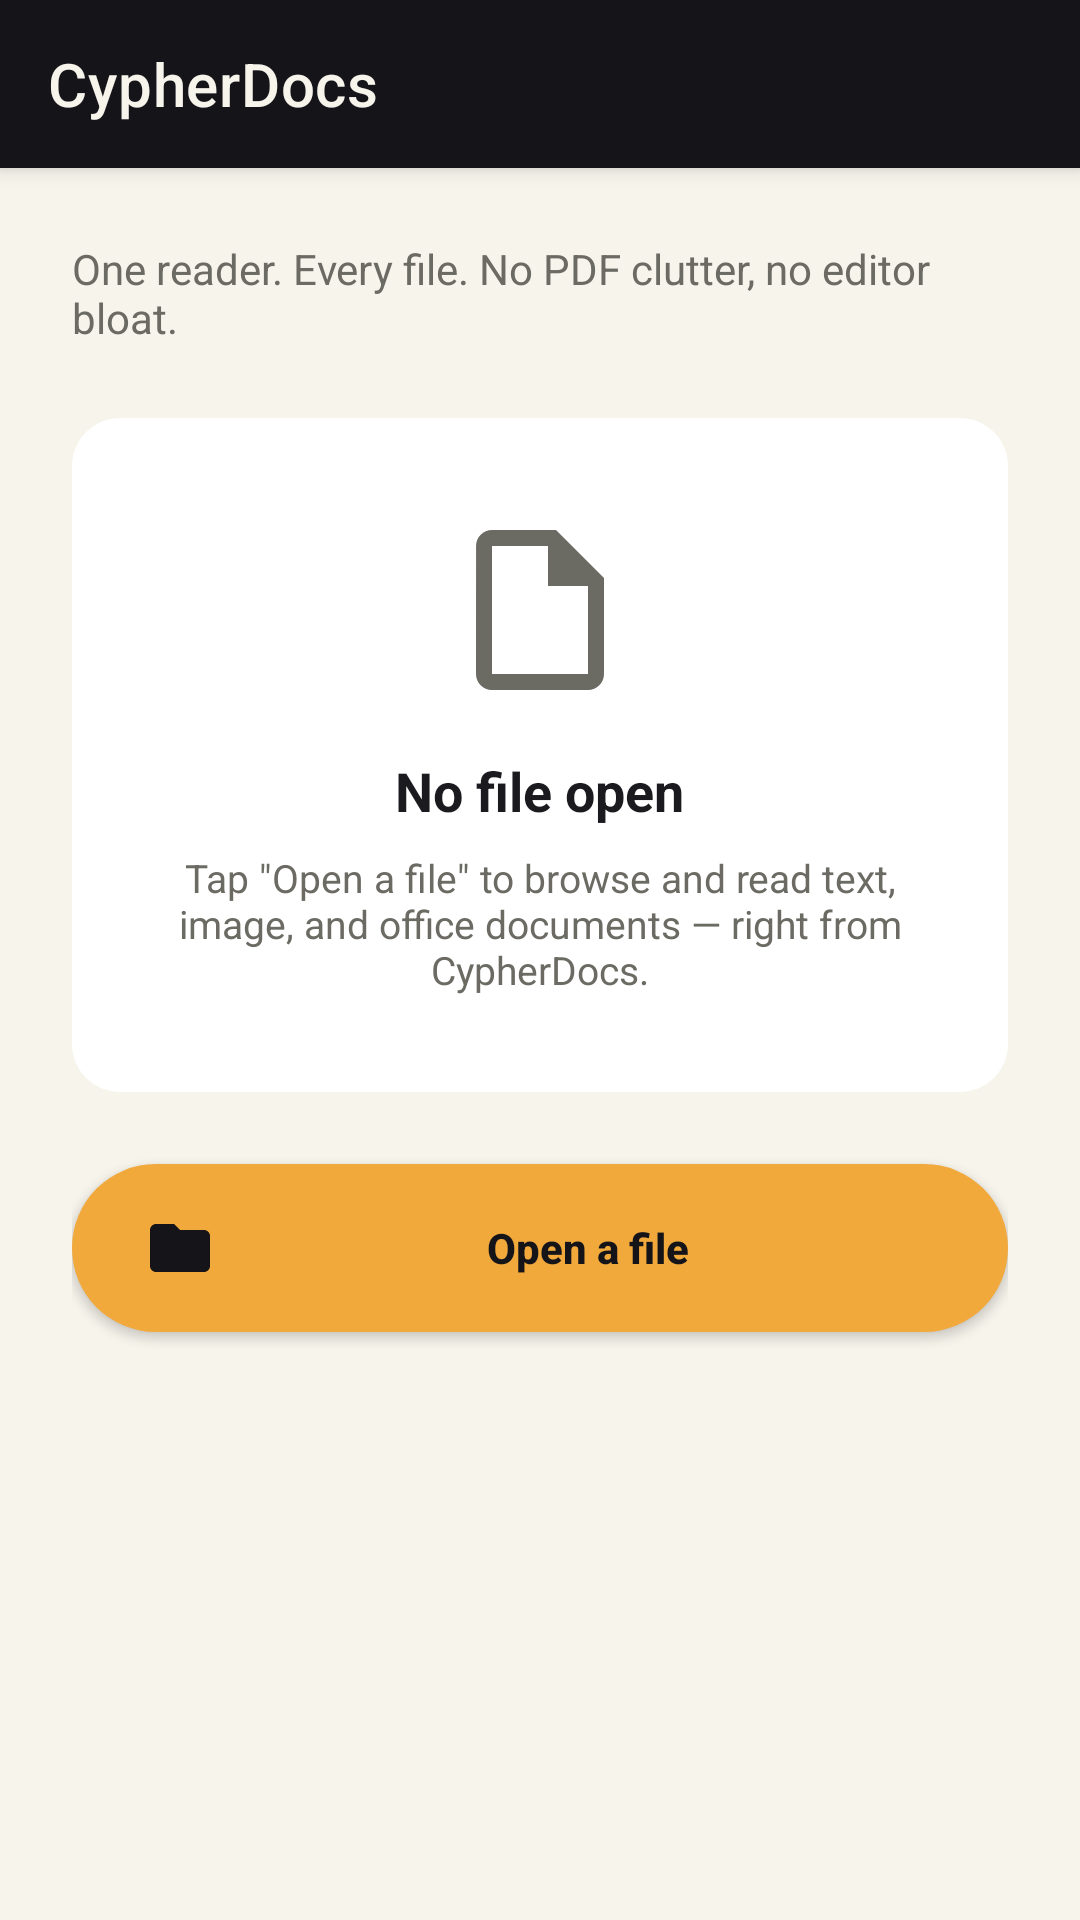

Screen size 1080 x 1920. Icon name, then its center in pixels as (x=x, y=y):
file generic: (x=540, y=610)
